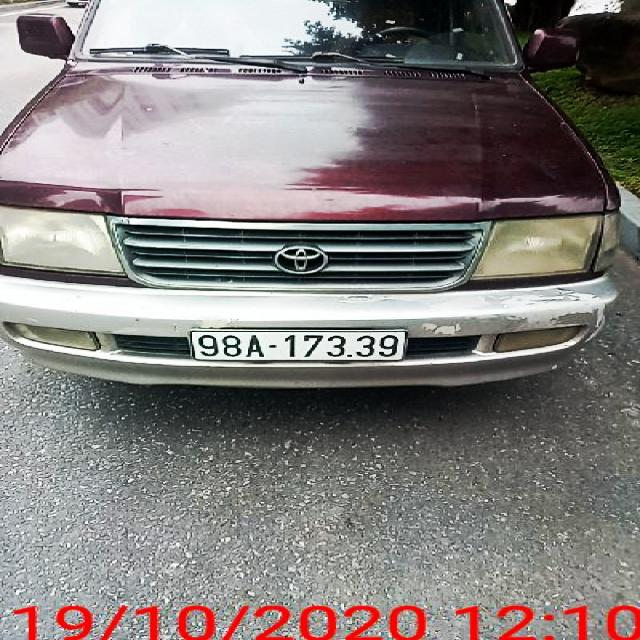license_plate: (196, 331, 406, 362)
